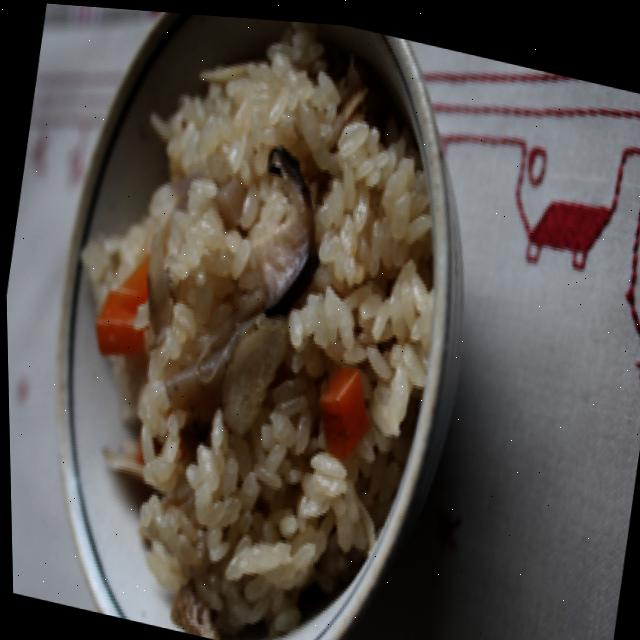米饭主食: (169, 69, 640, 640)
